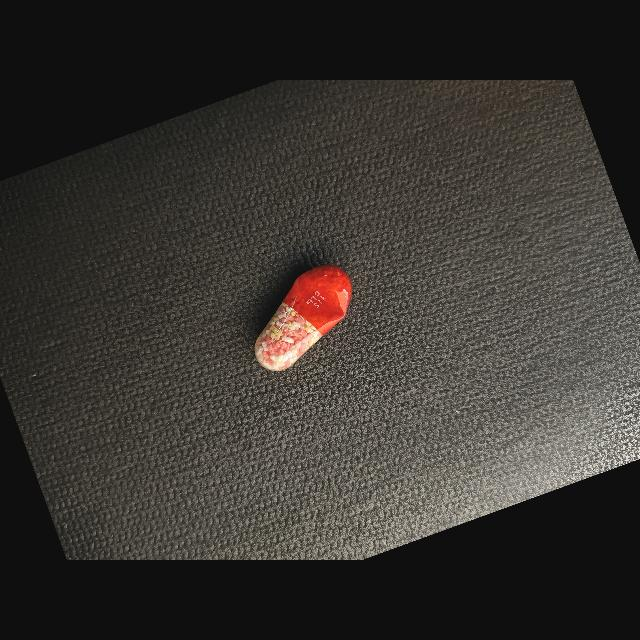Defective Capsule: (255, 265, 352, 371)
